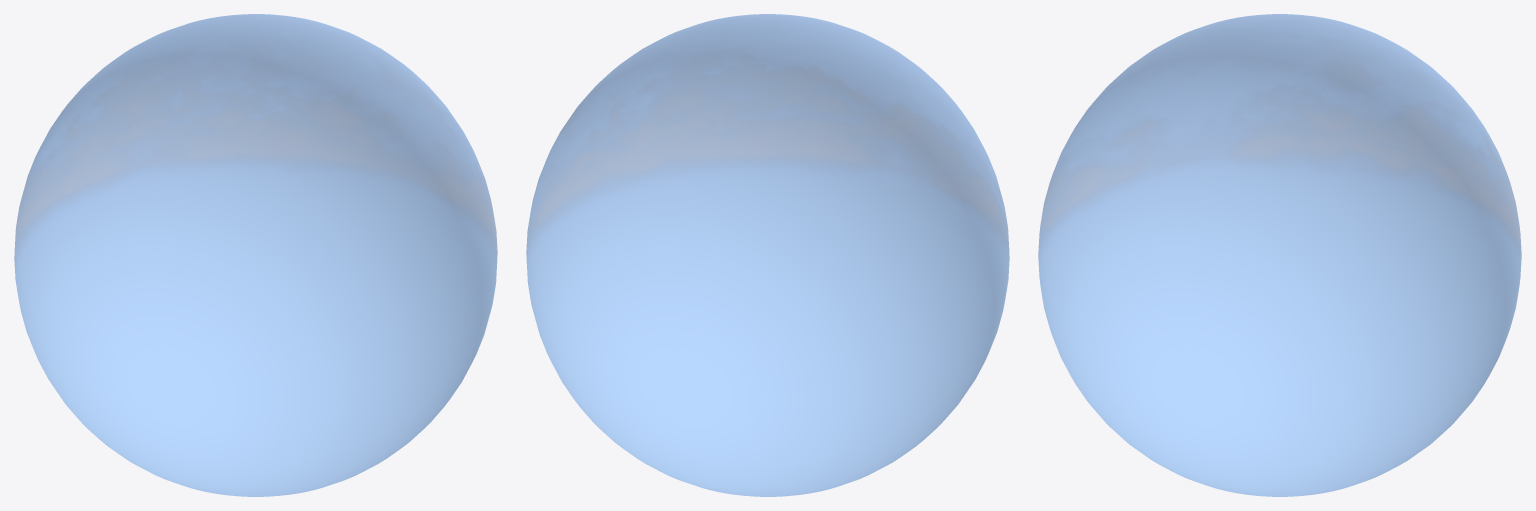
The model's file is rendertest1.glb.
The picture shows the model from 3 angles, left to right: view 1: azimuth 30°, elevation 25°; view 2: azimuth 150°, elevation 25°; view 3: azimuth 270°, elevation 25°; orthographic projection.
Parts seen in each view (by area): view 1: SkySphereMesh; view 2: SkySphereMesh; view 3: SkySphereMesh.
Boxes of the visible parts, left/top/right/bottom form: SkySphereMesh: left=14, top=14, right=497, bottom=496; SkySphereMesh: left=526, top=14, right=1009, bottom=496; SkySphereMesh: left=1038, top=14, right=1521, bottom=496.
Size of the model in its own units: 32768 by 32768 by 32768.
9 materials, 2 textured.
